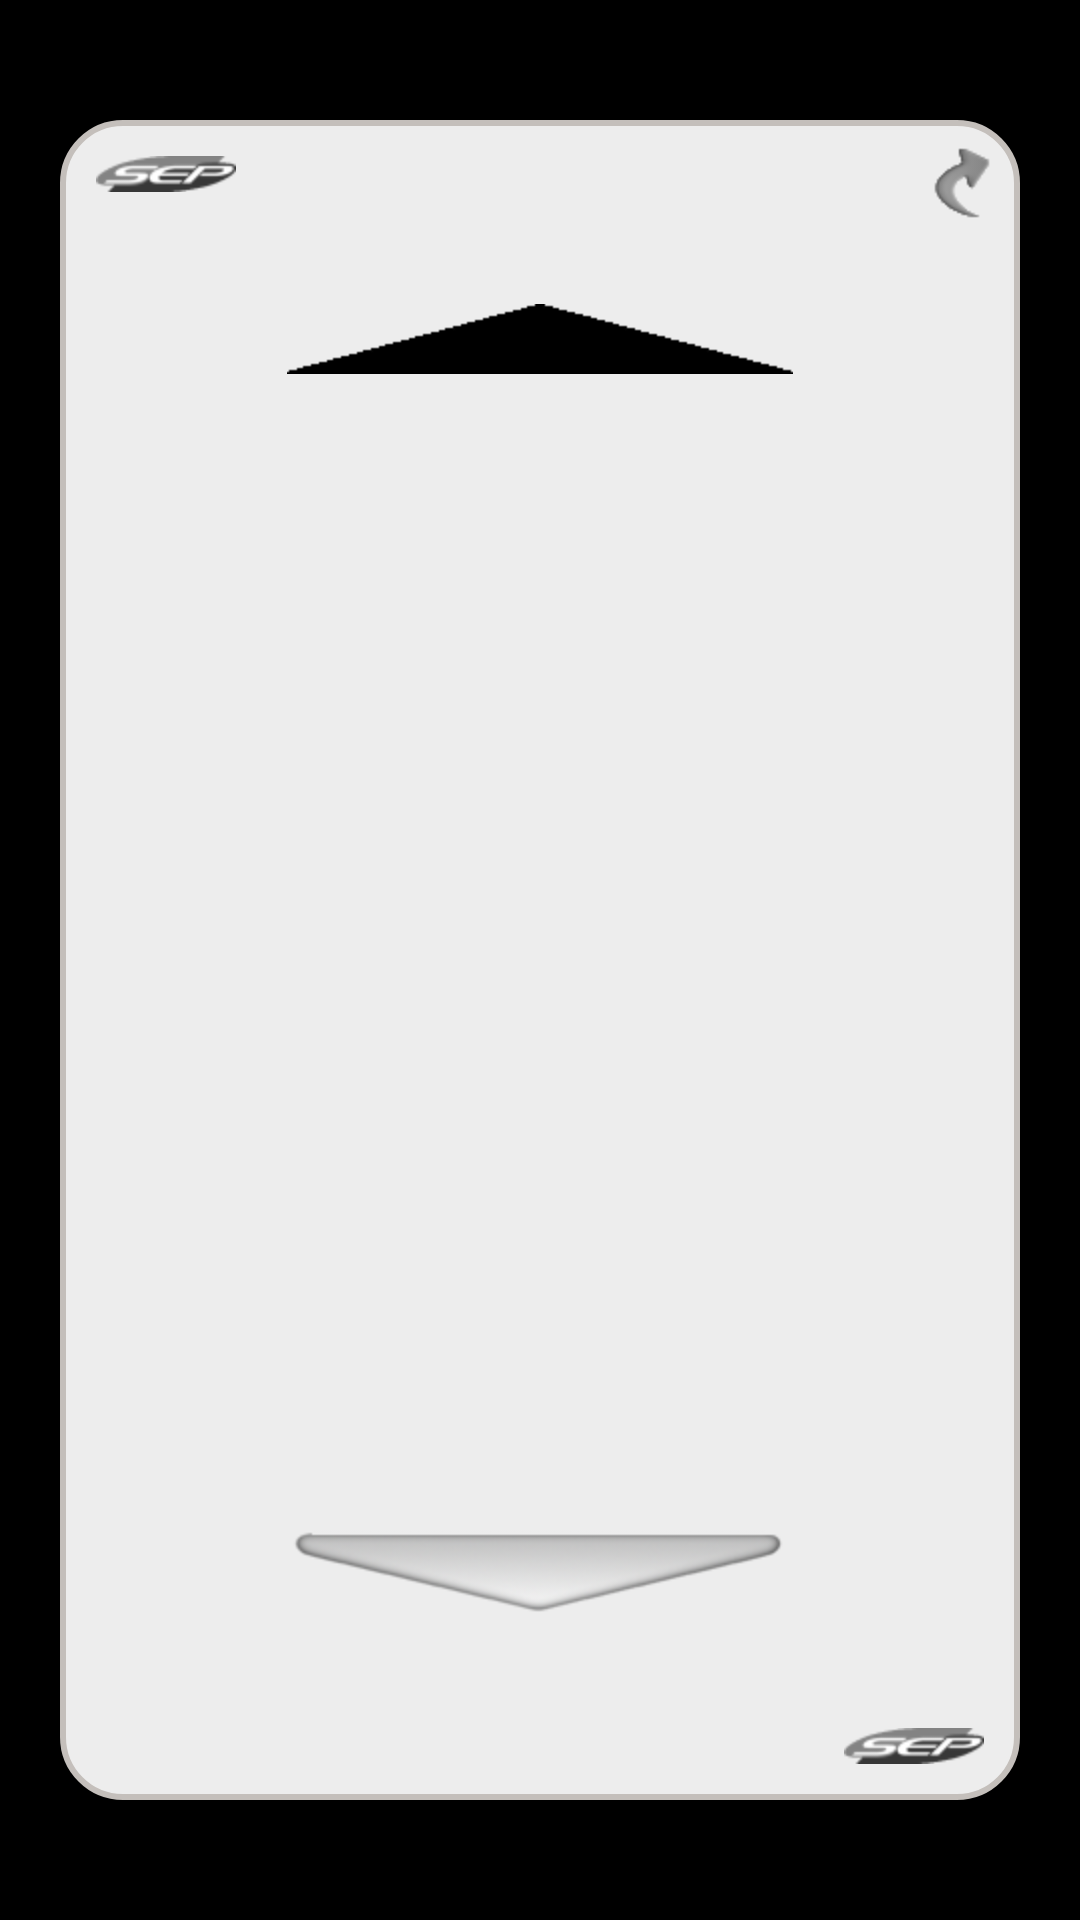

Named icons in this screenshot (1080x1920) and their bounding boxes, (x1, y1, x2, y2):
flip arrow: (934, 148, 989, 218)
